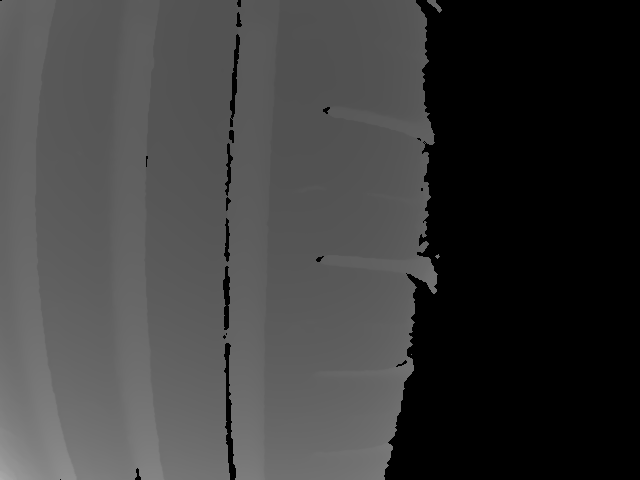high: (272, 241, 279, 271)
low: (242, 241, 249, 271)
